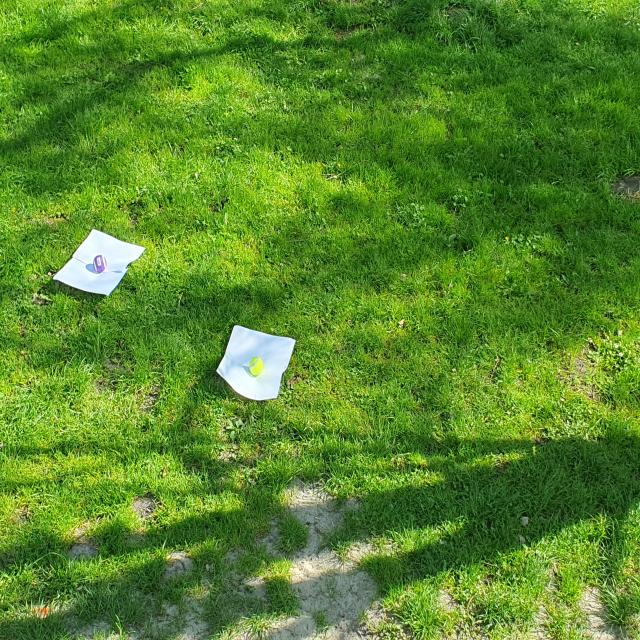green: (249, 357, 264, 376)
purple: (93, 255, 107, 273)
